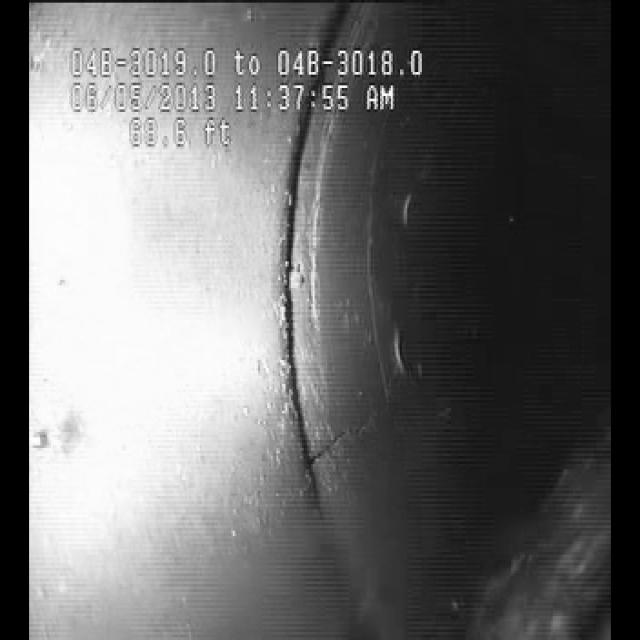Fracture: (266, 132, 400, 506)
